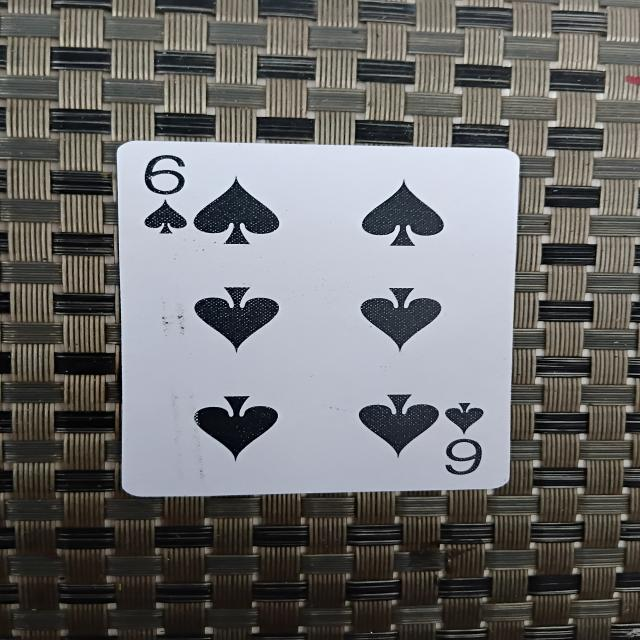6S: (123, 144, 499, 488)
